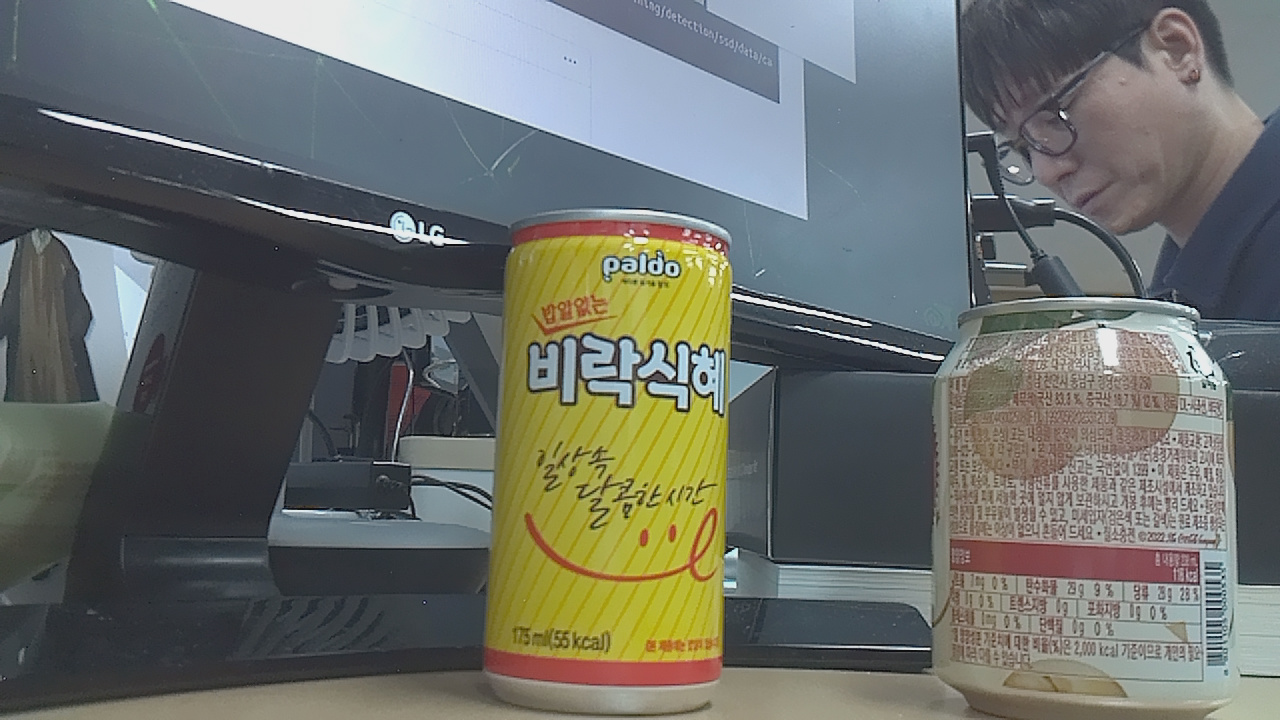IdH (pear juice): (924, 295, 1246, 720)
paldo shikhye: (470, 193, 751, 720)
